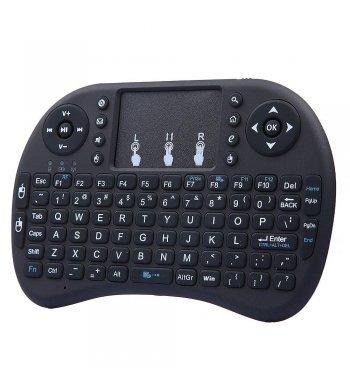keyboard: (10, 160, 338, 329)
